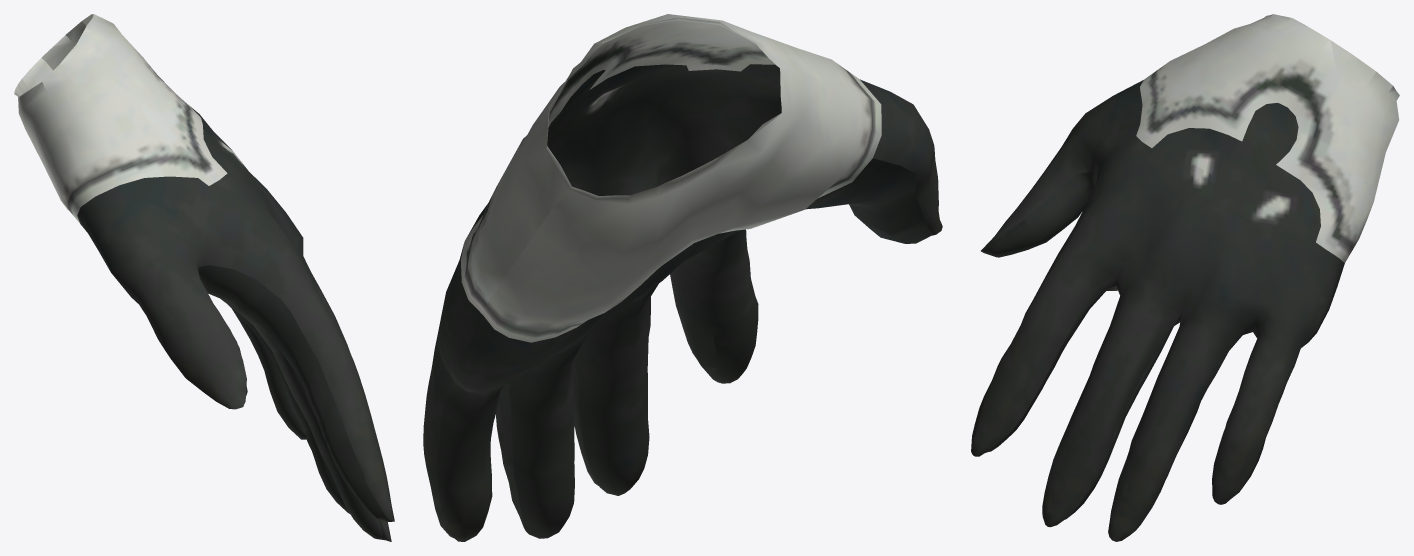
The model's file is lefthand.obj.
The picture shows the model from 3 angles, left to right: view 1: azimuth 30°, elevation 25°; view 2: azimuth 150°, elevation 25°; view 3: azimuth 270°, elevation 25°; orthographic projection. The views are drawn at different scales.
Visible parts, largest first — view 1: lefthand:Object01 lefthand:polySurface2 lefthand:polySurface4 le; view 2: lefthand:Object01 lefthand:polySurface2 lefthand:polySurface4 le; view 3: lefthand:Object01 lefthand:polySurface2 lefthand:polySurface4 le.
Boxes of the visible parts, bbox=[...] form: lefthand:Object01 lefthand:polySurface2 lefthand:polySurface4 le: bbox=[14, 14, 394, 541]; lefthand:Object01 lefthand:polySurface2 lefthand:polySurface4 le: bbox=[423, 14, 942, 541]; lefthand:Object01 lefthand:polySurface2 lefthand:polySurface4 le: bbox=[971, 14, 1399, 541].
Size of the model in its own units: 1.99 by 3.29 by 2.93.
Materials: 1 (1 with a texture image).
